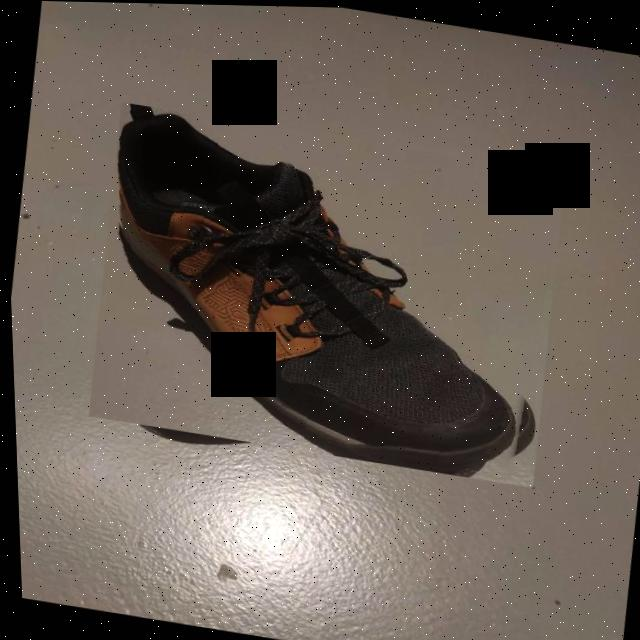shoe: (76, 101, 573, 486)
